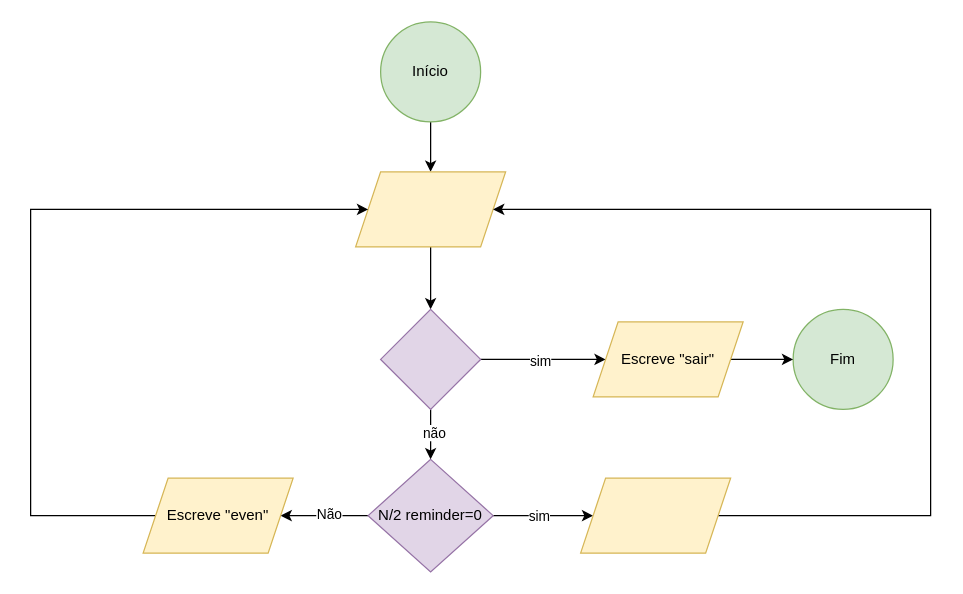
This 963x594 diagram has some shape labels left out. The shapes that lost their labels are listed below. From the top down, each one's centre as x and y in pixels, then its label:
(430,209): Pedir N
(430,358): N=0
(655,515): Escreve "odd"
